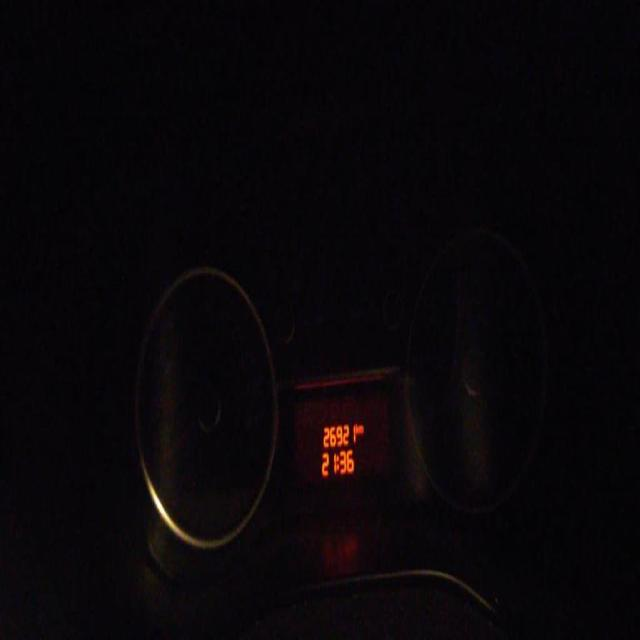odometer: (287, 368, 398, 494)
